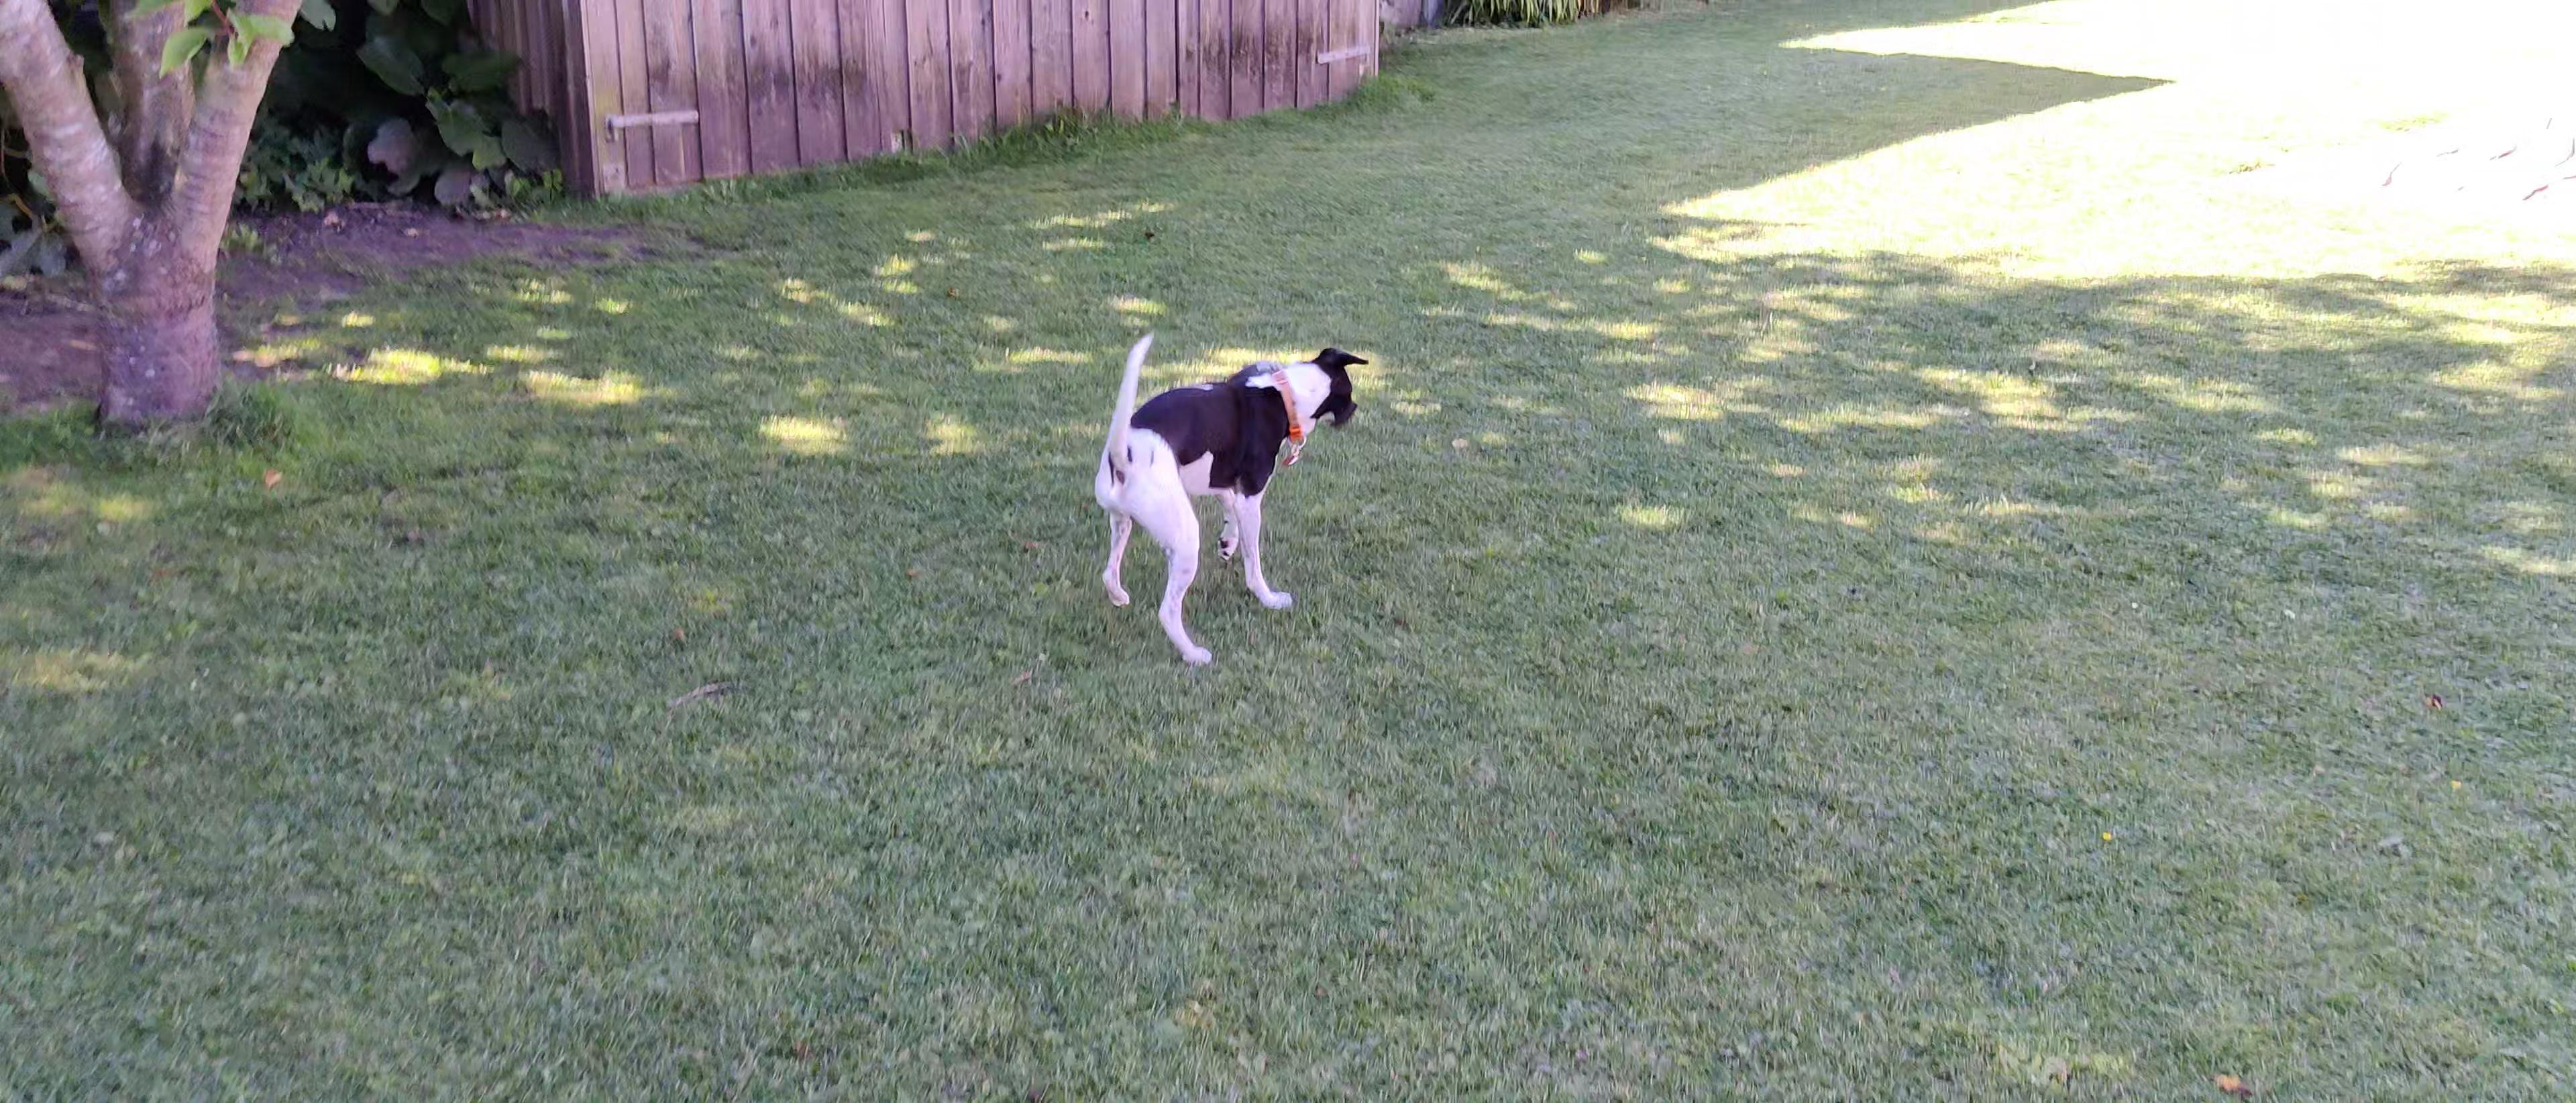Dog: (1084, 327, 1372, 669)
